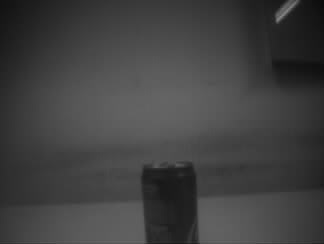Tin can: (141, 159, 200, 244)
